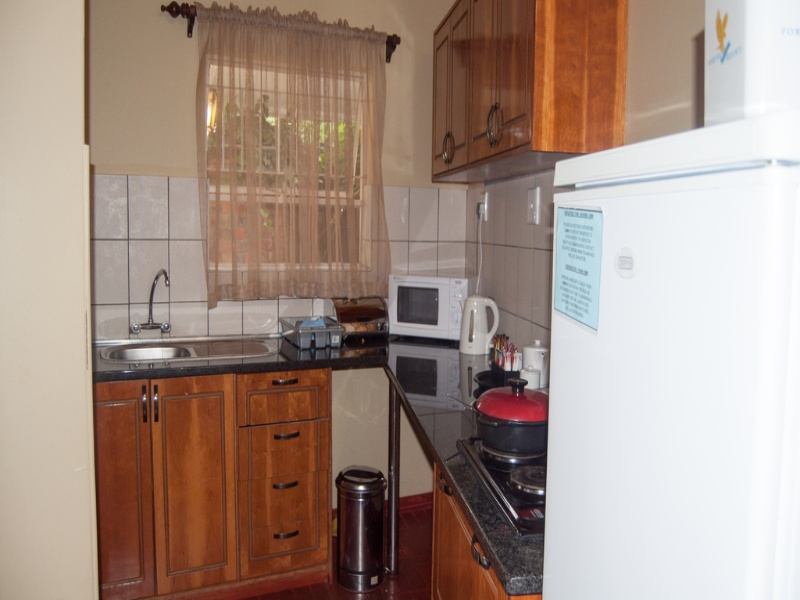refrigerator: (543, 121, 794, 600)
